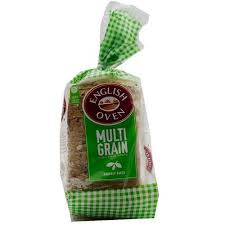bread: (58, 16, 162, 221)
